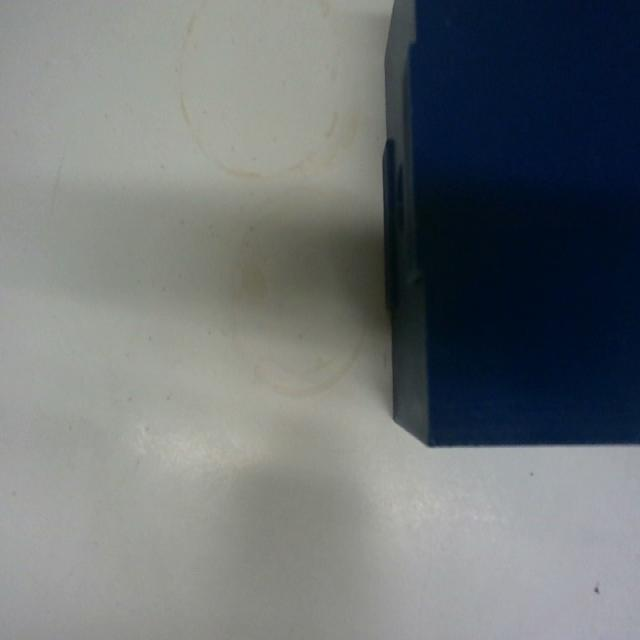Blue Cuboid: (379, 0, 639, 449)
